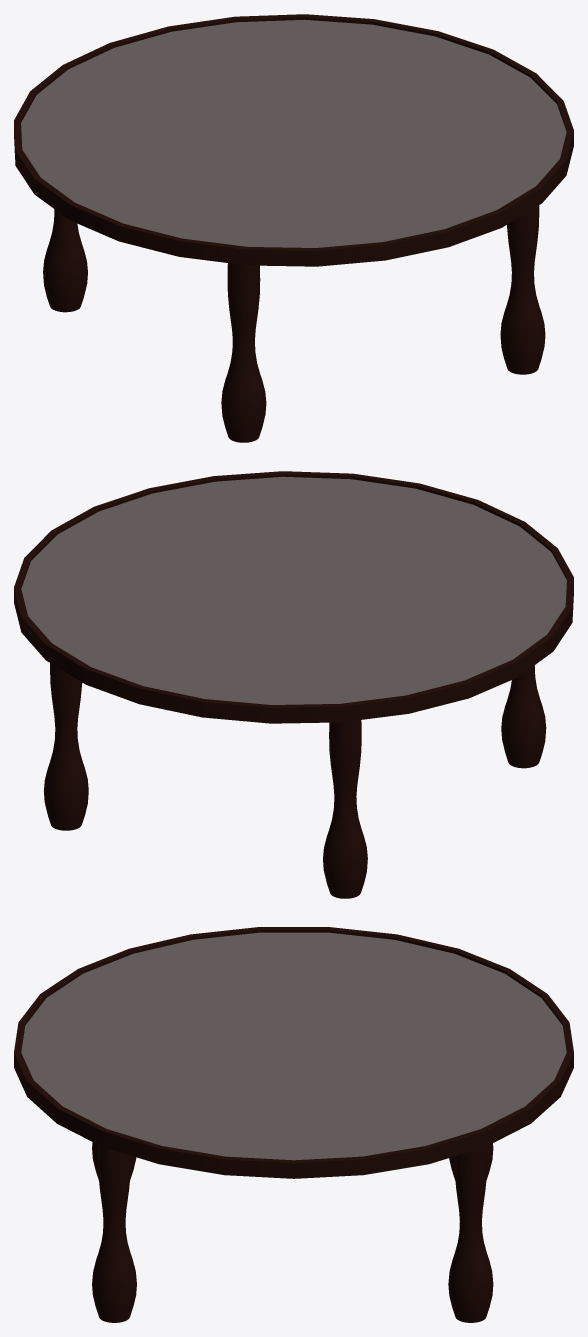
Rendered from Table small circular.obj.
3 renders of one model, top to bottom at view 1: azimuth 30°, elevation 25°; view 2: azimuth 150°, elevation 25°; view 3: azimuth 270°, elevation 25°, orthographic.
Visible parts, largest first — view 1: Cylinder001, Cylinder007, Cylinder006, Cylinder005; view 2: Cylinder001, Cylinder005, Cylinder004, Cylinder007; view 3: Cylinder001, Cylinder006, Cylinder004.
Boxes of the visible parts, <box> form: Cylinder001: <box>14,14,573,266</box>; Cylinder007: <box>221,263,266,442</box>; Cylinder006: <box>500,205,545,374</box>; Cylinder005: <box>43,209,87,312</box>; Cylinder001: <box>14,471,573,723</box>; Cylinder005: <box>323,720,367,898</box>; Cylinder004: <box>44,663,88,830</box>; Cylinder007: <box>501,665,546,768</box>; Cylinder001: <box>14,927,573,1178</box>; Cylinder006: <box>92,1145,136,1322</box>; Cylinder004: <box>448,1146,493,1322</box>.
Size of the model in its own units: 47743 by 19187 by 47838.
